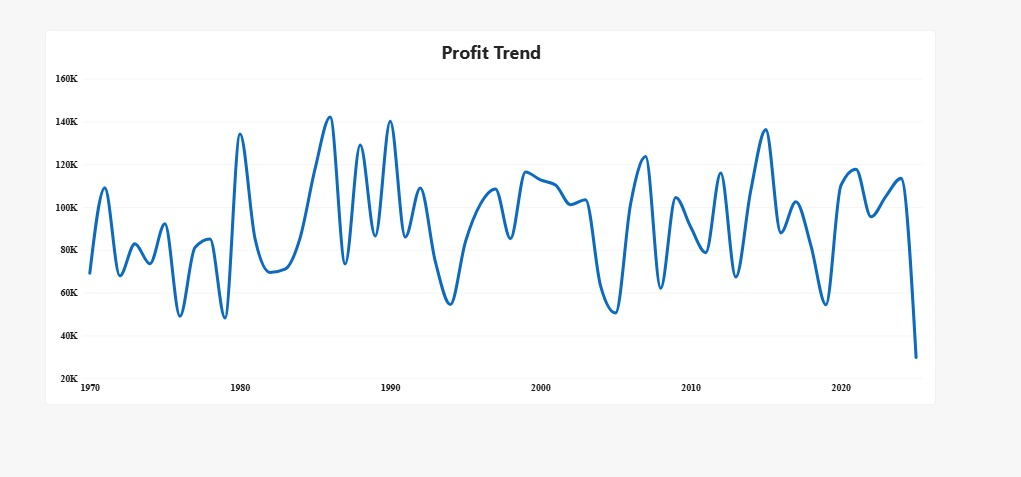

This screenshot's page, from the dashboard's own definition file:
{"tool":"powerbi","page":{"name":"Line Chart","canvas":[1920,1080],"ordinal":2},"visuals":[{"type":"lineChart","title":"Profit Trend ","fields":{"Category":["SalesData_1000Rows_WithIssues_copy.OrderDate.Variation.Date Hierarchy.Year","SalesData_1000Rows_WithIssues_copy.OrderDate.Variation.Date Hierarchy.Quarter"],"Y":["Sum(SalesData_1000Rows_WithIssues_copy.Profit)"]},"box":[197.6,189.4,1467.6,617.5],"z":0}]}

Visuals, with their boxes on the page's 1920x1080 design canvas (x1, y1, x2, y2). These are canvas units, not pixel positions in the 1021x477 screenshot, which may show the page scaled, cropped or inside an application window:
"Profit Trend " lineChart: x1=198, y1=189, x2=1665, y2=807
